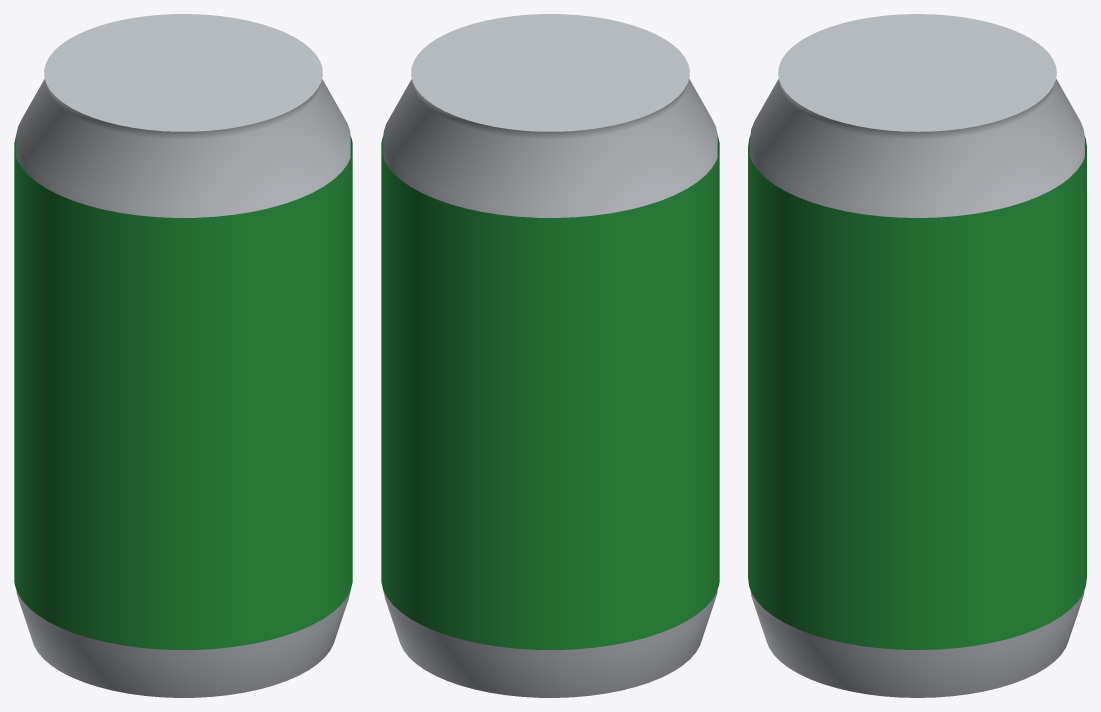
File: lata-verde_lata.glb
3 renders of one model, left to right at view 1: azimuth 30°, elevation 25°; view 2: azimuth 150°, elevation 25°; view 3: azimuth 270°, elevation 25°, orthographic.
Parts seen in each view (by area): view 1: lata-verde_lata; view 2: lata-verde_lata; view 3: lata-verde_lata.
Boxes of the visible parts, left/top/right/bottom form: lata-verde_lata: left=14, top=14, right=352, bottom=697; lata-verde_lata: left=381, top=14, right=719, bottom=697; lata-verde_lata: left=748, top=14, right=1086, bottom=697.
Size of the model in its own units: 0.0668 by 0.122 by 0.0668.
